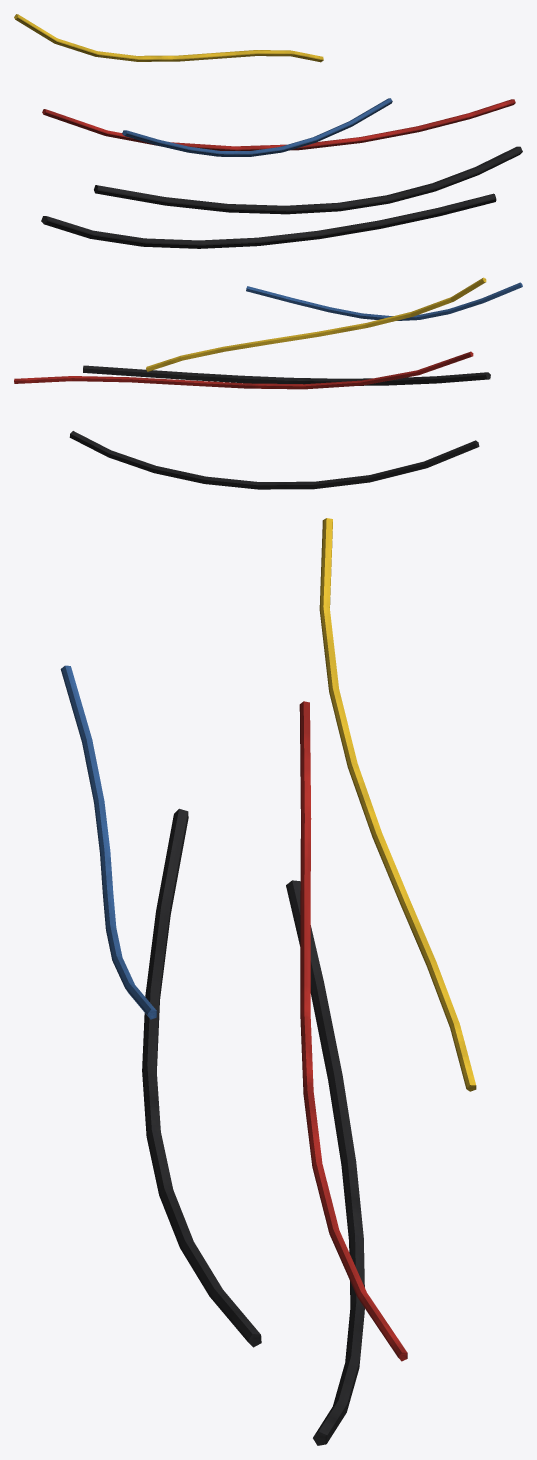
The model's file is Cables.fbx.
3 renders of one model, top to bottom at view 1: azimuth 30°, elevation 25°; view 2: azimuth 150°, elevation 25°; view 3: azimuth 270°, elevation 25°, orthographic. The views are drawn at different scales.
Parts seen in each view (by area): view 1: Cables; view 2: Cables; view 3: Cables.
Boxes of the visible parts, left/top/right/bottom form: Cables: left=14, top=14, right=522, bottom=248; Cables: left=14, top=277, right=522, bottom=489; Cables: left=60, top=518, right=476, bottom=1445.
Bounding box in the file's own units: 6.5 × 3.69 × 2.58.
